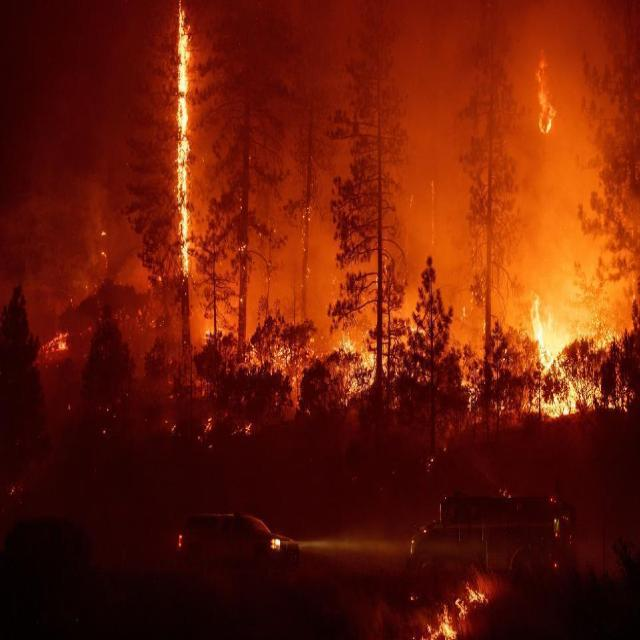Fire: (161, 0, 207, 303), (503, 270, 578, 416), (415, 567, 495, 640), (533, 21, 559, 149)
